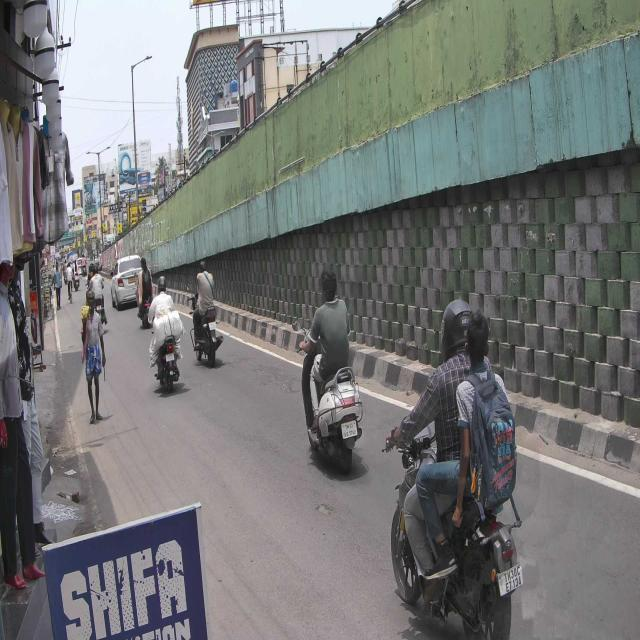double_rider: (379, 299, 526, 640)
single_rider: (291, 266, 364, 472)
